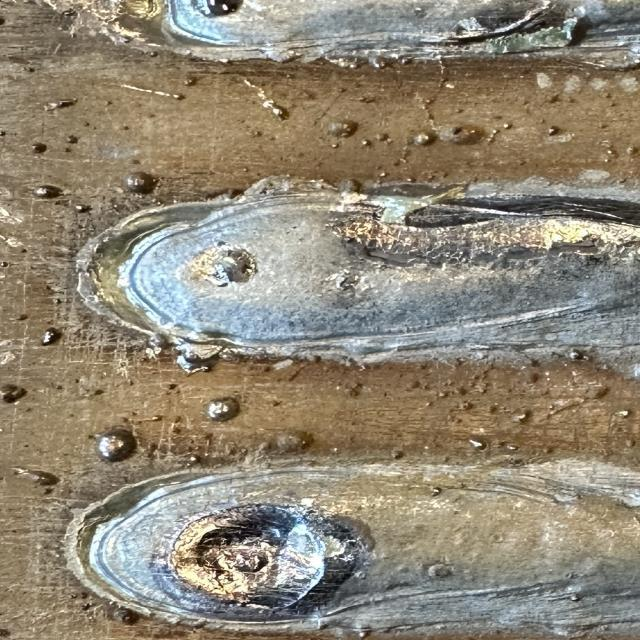Excess Reinforcement: (423, 0, 585, 54), (77, 216, 147, 331), (162, 16, 320, 61), (37, 0, 167, 51), (237, 175, 338, 202), (175, 342, 222, 374), (323, 54, 412, 69), (145, 334, 167, 358), (335, 179, 362, 194)
Spatters: (243, 79, 290, 120), (95, 429, 137, 461), (120, 84, 185, 99), (437, 125, 485, 145), (275, 429, 313, 453), (205, 398, 240, 421), (123, 171, 158, 194), (13, 468, 60, 485), (327, 120, 358, 138), (0, 384, 27, 404), (33, 185, 63, 198), (45, 99, 77, 111), (412, 131, 437, 146), (255, 439, 278, 454), (42, 328, 62, 344), (512, 410, 530, 423), (468, 439, 487, 451), (390, 446, 405, 459), (375, 132, 392, 143), (32, 142, 47, 154), (187, 454, 202, 466), (355, 95, 377, 103), (568, 350, 585, 360), (487, 129, 498, 143), (183, 76, 198, 86), (547, 126, 560, 136), (617, 410, 632, 418), (75, 205, 92, 212), (358, 629, 370, 638), (548, 406, 558, 416), (67, 135, 78, 144), (505, 444, 518, 451), (570, 594, 582, 601), (432, 488, 442, 496), (150, 415, 163, 421), (0, 261, 10, 268), (252, 130, 262, 137), (362, 139, 372, 146), (147, 51, 158, 57), (25, 66, 35, 72), (378, 171, 387, 177), (332, 142, 340, 148), (103, 100, 112, 105), (0, 130, 7, 136), (503, 124, 511, 129), (83, 121, 90, 126), (383, 391, 388, 397), (65, 148, 72, 152)
